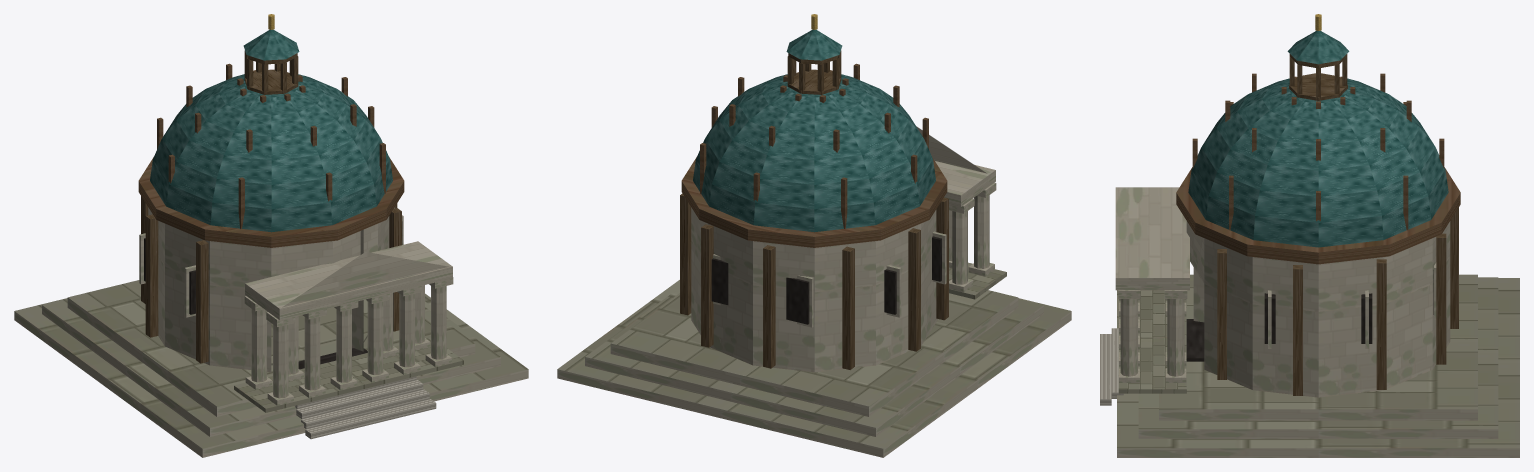
Rendered from ae_forest_dome_temple_lod1.glb.
3 views of the same model, side by side, from view 1: azimuth 30°, elevation 25°; view 2: azimuth 150°, elevation 25°; view 3: azimuth 270°, elevation 25° (orthographic). The views are drawn at different scales.
Visible parts, largest first — view 1: ae_forest_dome_temple_lod1; view 2: ae_forest_dome_temple_lod1; view 3: ae_forest_dome_temple_lod1.
Part boxes in pixels (x1,y1,x2,y2): ae_forest_dome_temple_lod1: (14,14,528,457); ae_forest_dome_temple_lod1: (557,14,1071,457); ae_forest_dome_temple_lod1: (1100,14,1519,457).
Size of the model in its own units: 9.87 by 9.66 by 10.29.
1 material, 1 textured.
